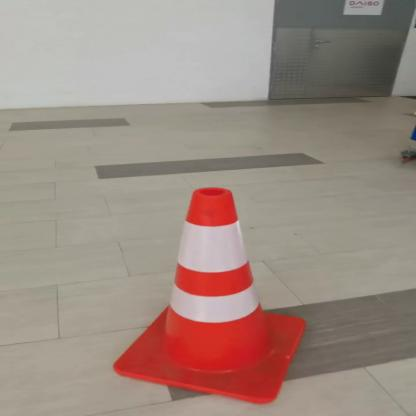cone: (108, 184, 311, 406)
